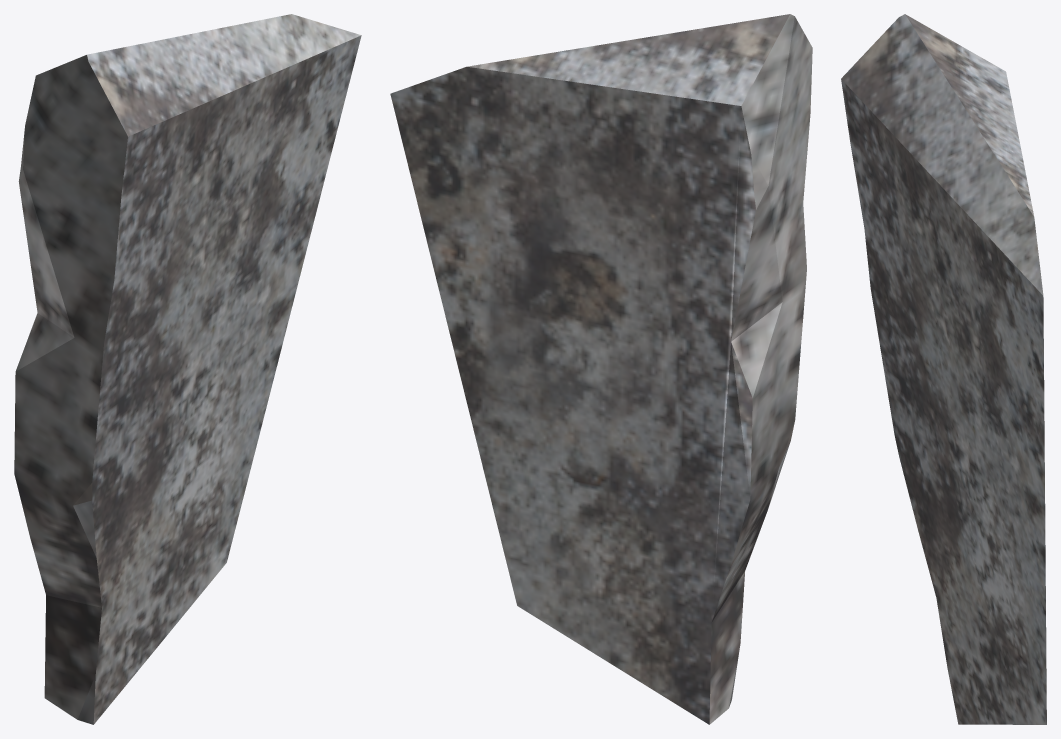
Rendered from Asteroid_Large_001_02_005_03_017.fbx.
3 renders of one model, left to right at view 1: azimuth 30°, elevation 25°; view 2: azimuth 150°, elevation 25°; view 3: azimuth 270°, elevation 25°, orthographic. The views are drawn at different scales.
Visible parts, largest first — view 1: Asteroid_Large_001_02_005_03_017; view 2: Asteroid_Large_001_02_005_03_017; view 3: Asteroid_Large_001_02_005_03_017.
Boxes of the visible parts, x1=… form: Asteroid_Large_001_02_005_03_017: x1=14, y1=14, x2=361, y2=724; Asteroid_Large_001_02_005_03_017: x1=390, y1=14, x2=812, y2=724; Asteroid_Large_001_02_005_03_017: x1=841, y1=14, x2=1046, y2=724.
Bounding box in the file's own units: 5.88 × 10.76 × 2.89.
